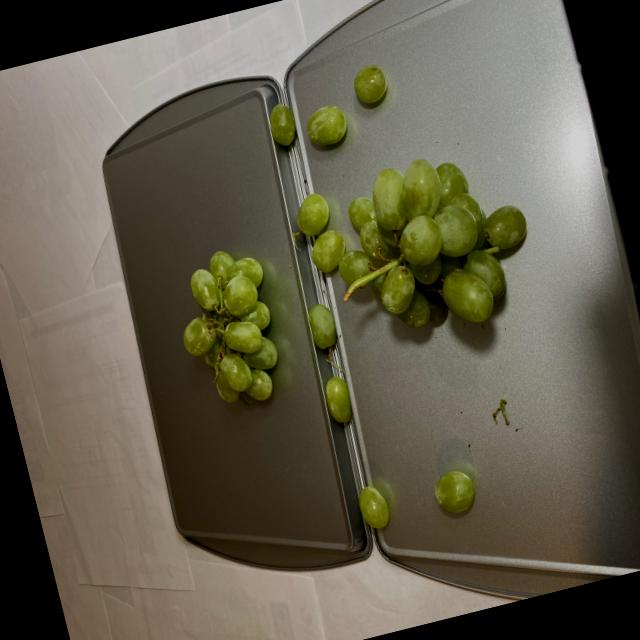grapes: (250, 41, 585, 543), (166, 247, 298, 422)
